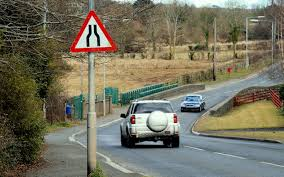car: (118, 97, 182, 148), (181, 94, 208, 114)
narrow-road: (70, 9, 117, 54)
